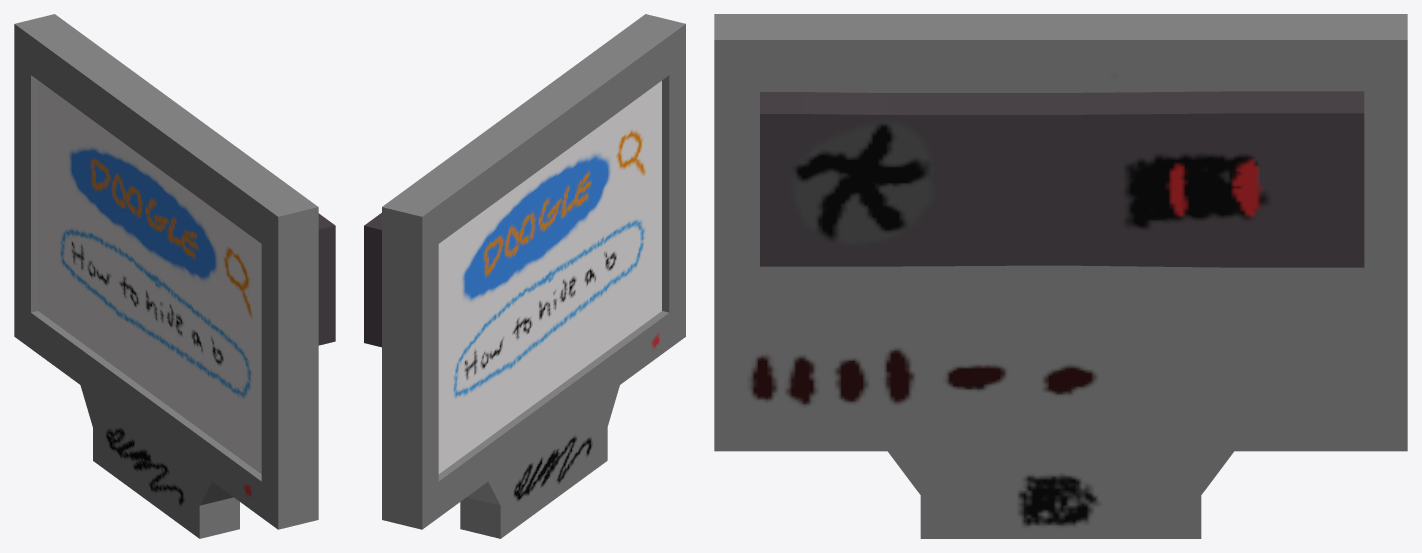
The model's file is computer.fbx.
The picture shows the model from 3 angles, left to right: view 1: azimuth 30°, elevation 25°; view 2: azimuth 150°, elevation 25°; view 3: azimuth 270°, elevation 25°; orthographic projection. The views are drawn at different scales.
Parts seen in each view (by area): view 1: Cube; view 2: Cube; view 3: Cube.
Part boxes in pixels (<box>): Cube: <box>14,14,335,538</box>; Cube: <box>364,14,685,538</box>; Cube: <box>714,14,1407,538</box>.
Bounding box in the file's own units: 49.98 × 243 × 306.
